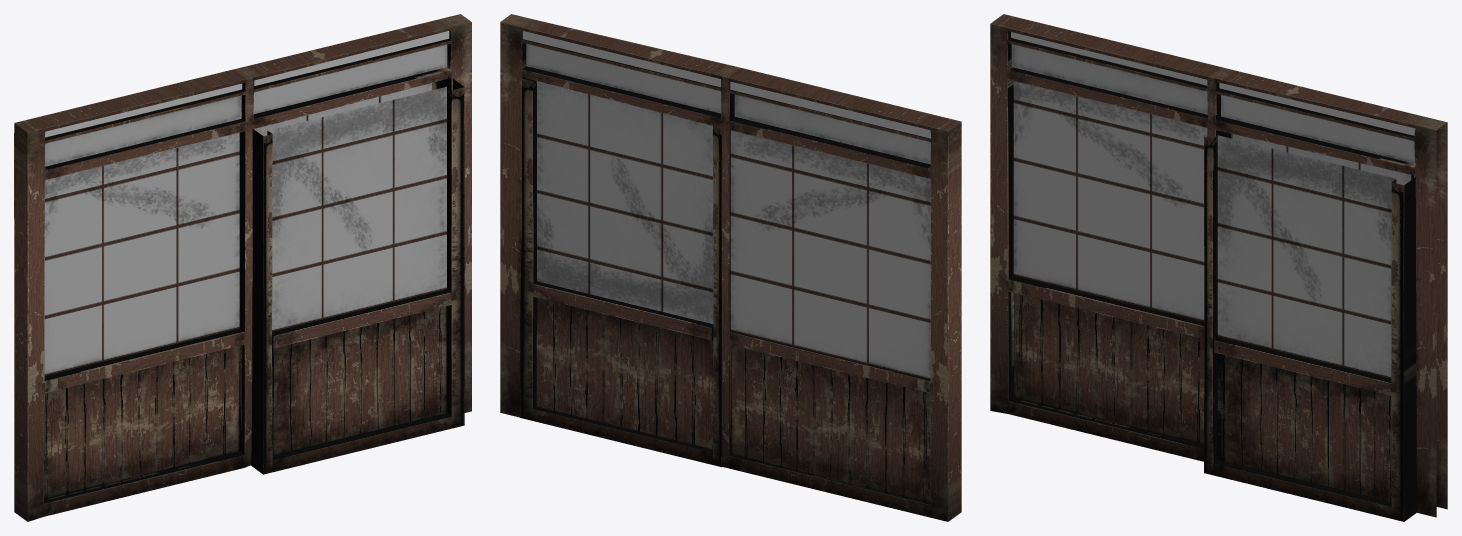
Rendered from Door_New.fbx.
3 views of the same model, side by side, from view 1: azimuth 30°, elevation 25°; view 2: azimuth 150°, elevation 25°; view 3: azimuth 330°, elevation 25° (orthographic).
Visible parts, largest first — view 1: pCube66, pCube74.002; view 2: pCube66, pCube74.002; view 3: pCube66, pCube74.002.
Part boxes in pixels (x1=…): pCube66: x1=14, y1=14, x2=471, y2=521; pCube74.002: x1=250, y1=79, x2=464, y2=474; pCube66: x1=500, y1=14, x2=961, y2=521; pCube74.002: x1=520, y1=78, x2=722, y2=467; pCube66: x1=990, y1=14, x2=1447, y2=517; pCube74.002: x1=1204, y1=133, x2=1416, y2=521.
Size of the model in its own units: 600 by 56.39 by 500.
